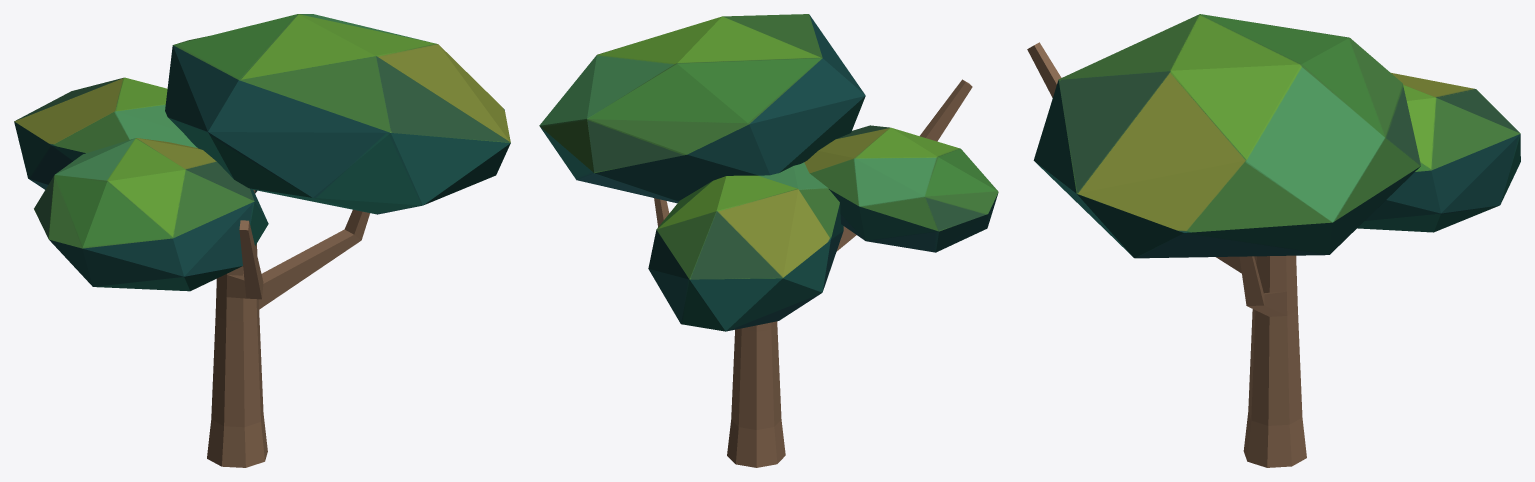
Rendered from Tree02.fbx.
3 views of the same model, side by side, from view 1: azimuth 30°, elevation 25°; view 2: azimuth 150°, elevation 25°; view 3: azimuth 270°, elevation 25° (orthographic). The views are drawn at different scales.
Visible parts, largest first — view 1: Icosphere.006; view 2: Icosphere.006; view 3: Icosphere.006.
Boxes of the visible parts, x1,y1,x2,y2 form: Icosphere.006: (14,14,510,467); Icosphere.006: (539,14,998,467); Icosphere.006: (1027,14,1520,467).
Size of the model in its own units: 219 by 196 by 205.
